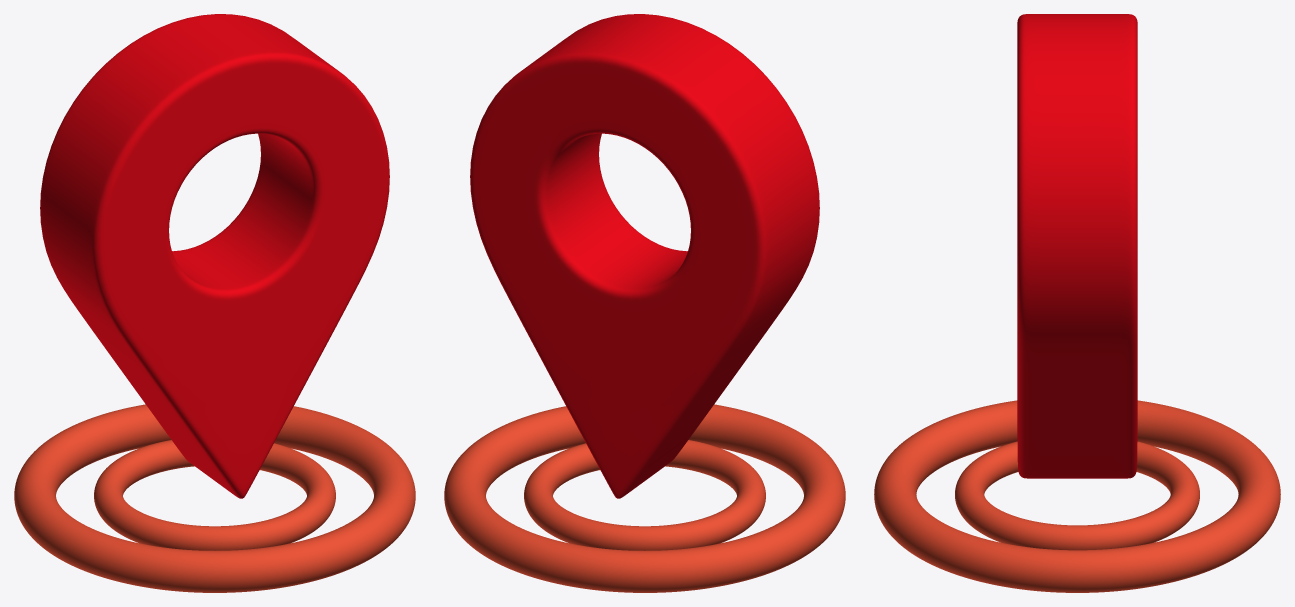
File: map-pin.glb
The picture shows the model from 3 angles, left to right: view 1: azimuth 30°, elevation 25°; view 2: azimuth 150°, elevation 25°; view 3: azimuth 270°, elevation 25°; orthographic projection.
Parts seen in each view (by area): view 1: Map-Pin; view 2: Map-Pin; view 3: Map-Pin.
Part boxes in pixels (x1=…): Map-Pin: x1=14, y1=14, x2=415, y2=592; Map-Pin: x1=444, y1=14, x2=845, y2=592; Map-Pin: x1=874, y1=14, x2=1280, y2=592.
Size of the model in its own units: 1.46 by 1.91 by 1.46.
